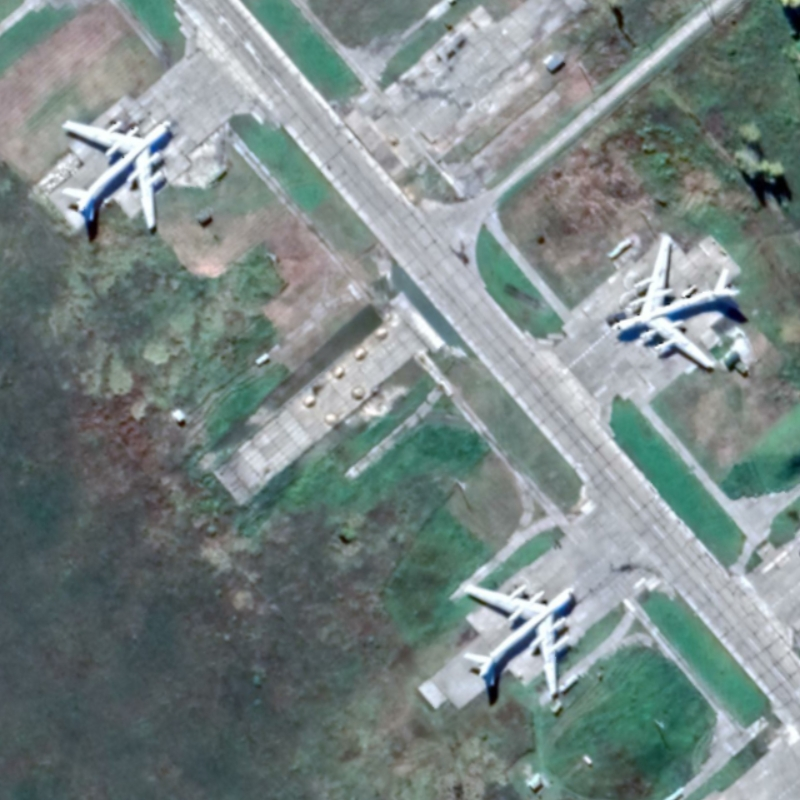A17: (609, 233, 745, 373), (460, 582, 578, 700), (57, 116, 174, 232)
